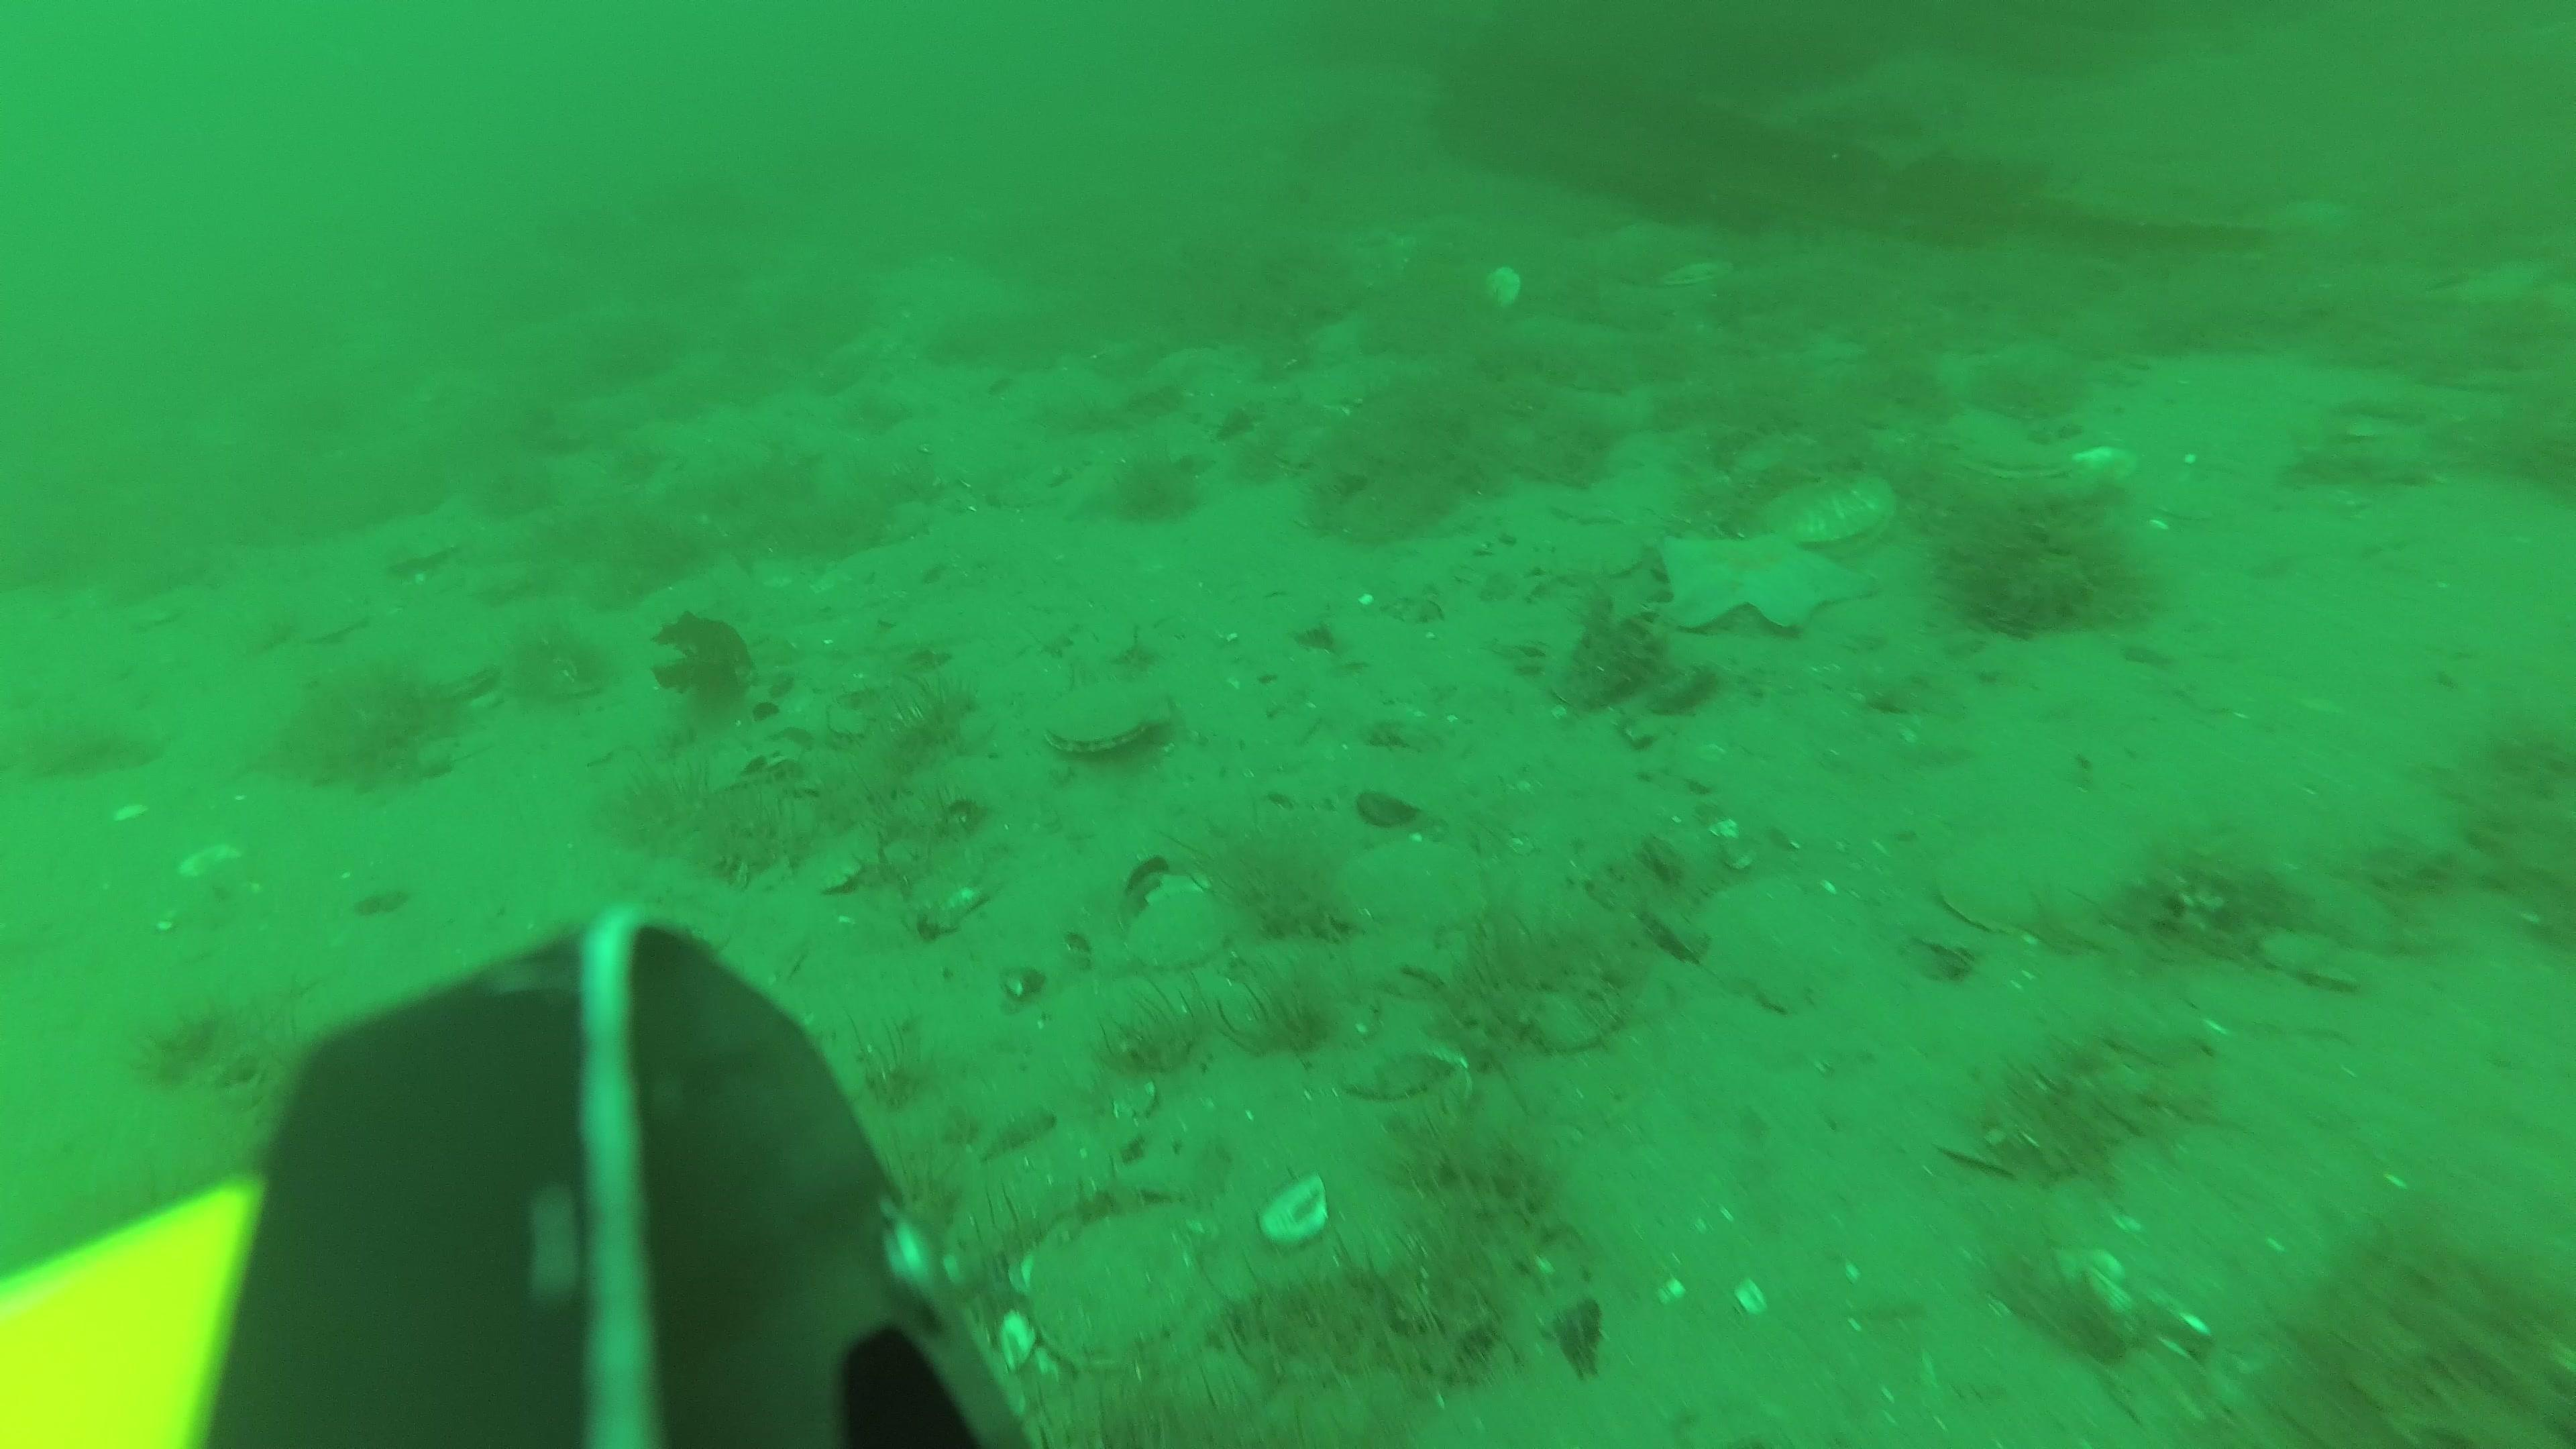scallop: (1031, 1191, 1238, 1362), (1759, 469, 1890, 556), (1053, 674, 1169, 761), (1943, 412, 2068, 483), (1658, 255, 1739, 290), (1479, 260, 1522, 317)
starfish: (1649, 531, 1879, 637)
